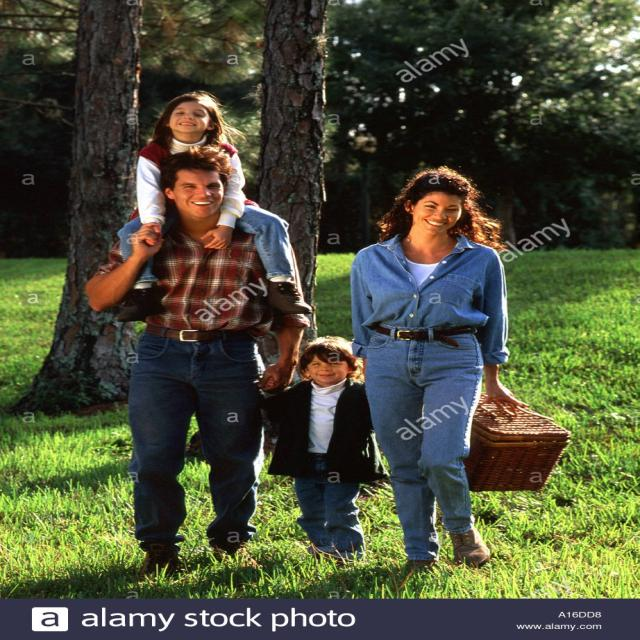body: (78, 142, 316, 580), (344, 162, 576, 590), (112, 92, 314, 324), (262, 335, 392, 566)
